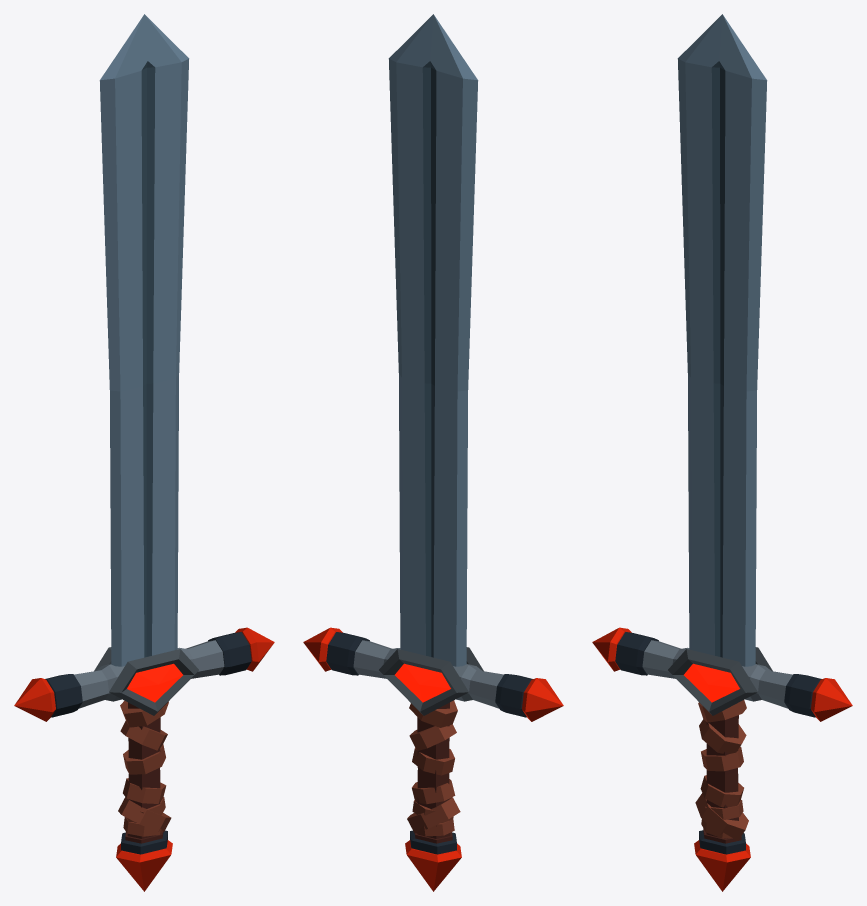
The model's file is sword.glb.
3 renders of one model, left to right at view 1: azimuth 30°, elevation 25°; view 2: azimuth 150°, elevation 25°; view 3: azimuth 330°, elevation 25°, orthographic.
Parts seen in each view (by area): view 1: sword; view 2: sword; view 3: sword.
Part boxes in pixels (x1=…): sword: x1=14, y1=14, x2=274, y2=891; sword: x1=303, y1=14, x2=563, y2=891; sword: x1=592, y1=14, x2=852, y2=891.
Size of the model in its own units: 0.3909 by 1.26 by 0.074.
